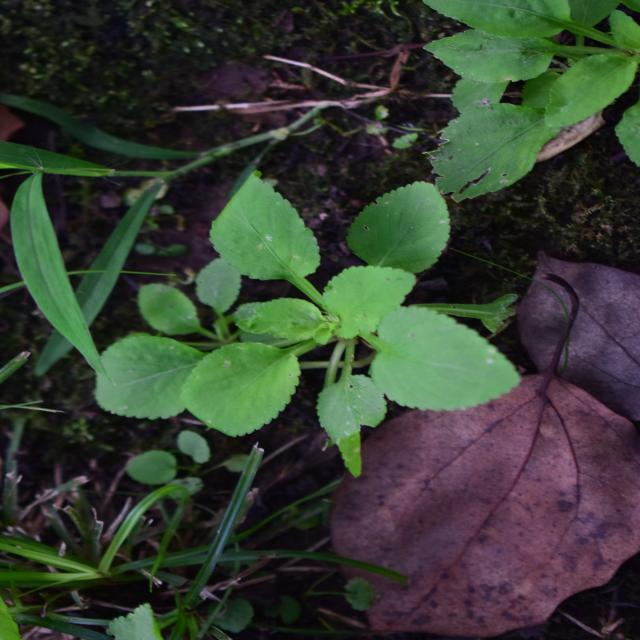Viola: (207, 155, 460, 506)
